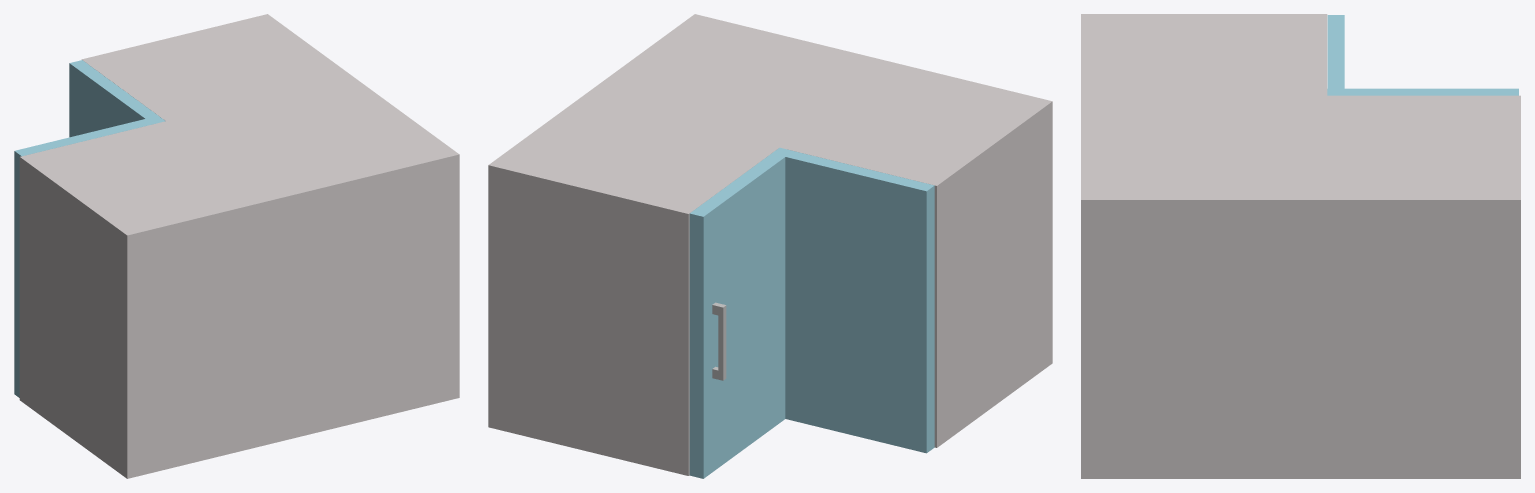
Rendered from CounterCorner.fbx.
The picture shows the model from 3 angles, left to right: view 1: azimuth 30°, elevation 25°; view 2: azimuth 150°, elevation 25°; view 3: azimuth 270°, elevation 25°; orthographic projection. The views are drawn at different scales.
Parts seen in each view (by area): view 1: CounterCORNERType1, CounterType4DOOR.001; view 2: CounterCORNERType1, CounterType4DOOR.001; view 3: CounterCORNERType1, CounterType4DOOR.001.
Boxes of the visible parts, x1,y1,x2,y2 form: CounterCORNERType1: [19, 14, 459, 478]; CounterType4DOOR.001: [14, 60, 165, 397]; CounterCORNERType1: [488, 14, 1052, 475]; CounterType4DOOR.001: [689, 147, 934, 478]; CounterCORNERType1: [1081, 14, 1520, 478]; CounterType4DOOR.001: [1327, 15, 1518, 95].
Bounding box in the file's own units: 100 × 70 × 100.
